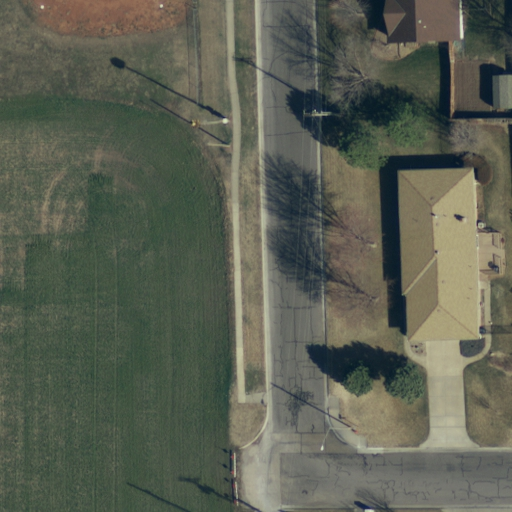DT: (299, 101, 343, 126)
